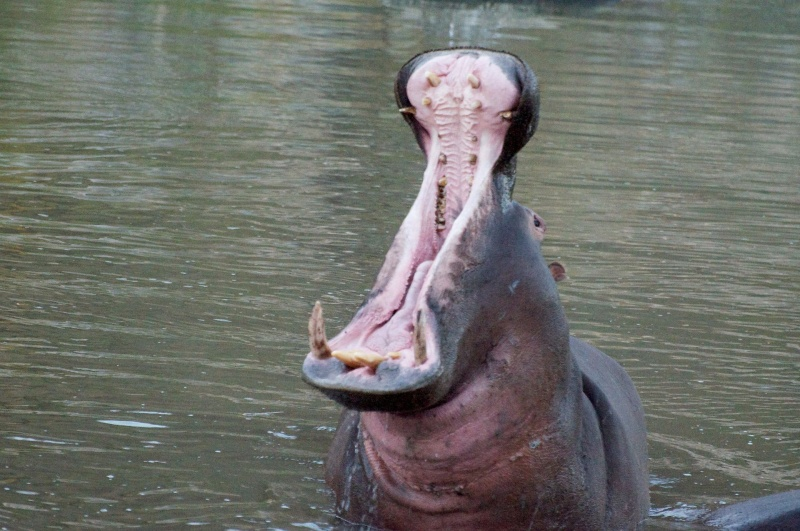hipopotamo: (292, 44, 657, 531)
